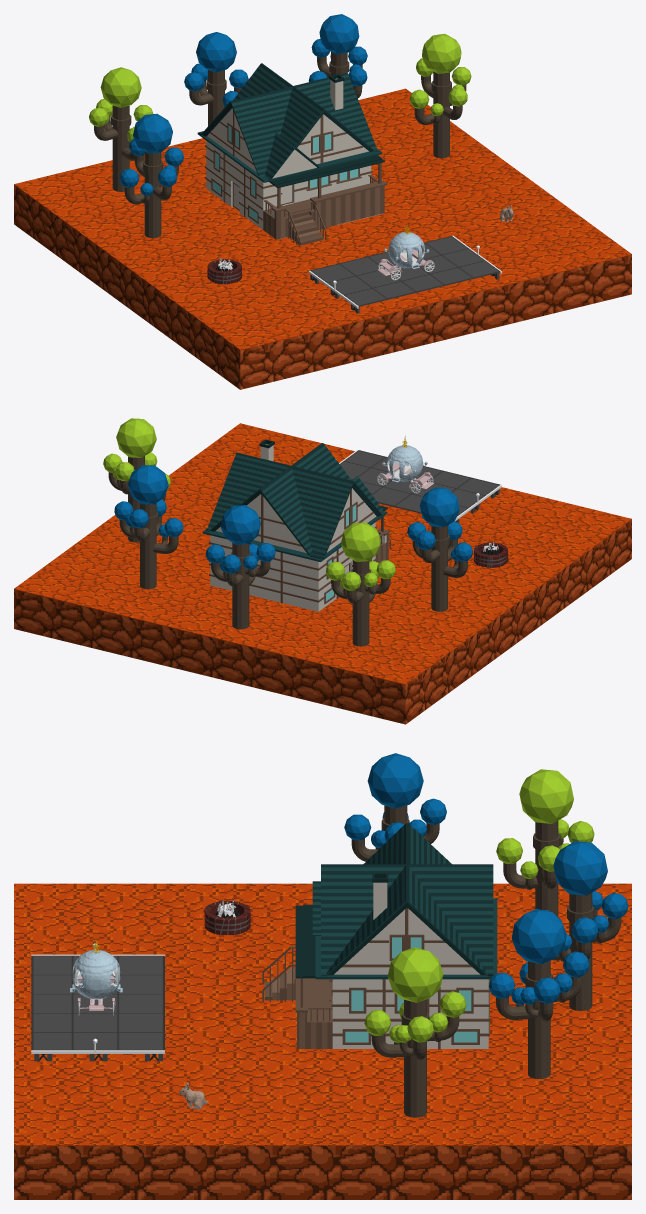
3 renders of one model, top to bottom at view 1: azimuth 30°, elevation 25°; view 2: azimuth 150°, elevation 25°; view 3: azimuth 270°, elevation 25°, orthographic. The views are drawn at different scales.
Visible parts, largest first — view 1: Cube.001, Cube.793, VEHICLES_FANTASY_CARRIAGE, OBJRANDOM_CAMPFIRE; view 2: Cube.001, Cube.793, VEHICLES_FANTASY_CARRIAGE, OBJRANDOM_CAMPFIRE; view 3: Cube.001, Cube.793, VEHICLES_FANTASY_CARRIAGE, OBJRANDOM_CAMPFIRE.
Part boxes in pixels (box(x1,y1,x2,y2)): Cube.001: box(14, 14, 631, 389); Cube.793: box(197, 63, 387, 246); VEHICLES_FANTASY_CARRIAGE: box(377, 223, 434, 280); OBJRANDOM_CAMPFIRE: box(207, 257, 241, 284); Cube.001: box(14, 418, 631, 724); Cube.793: box(202, 439, 390, 611); VEHICLES_FANTASY_CARRIAGE: box(377, 436, 433, 493); OBJRANDOM_CAMPFIRE: box(473, 541, 508, 567); Cube.001: box(14, 753, 631, 1199); Cube.793: box(262, 823, 497, 1049); VEHICLES_FANTASY_CARRIAGE: box(70, 939, 122, 1015); OBJRANDOM_CAMPFIRE: box(204, 896, 250, 934).
Bounding box in the file's own units: 4000 × 1642 × 4000.
Materials: 30 (5 with a texture image).
